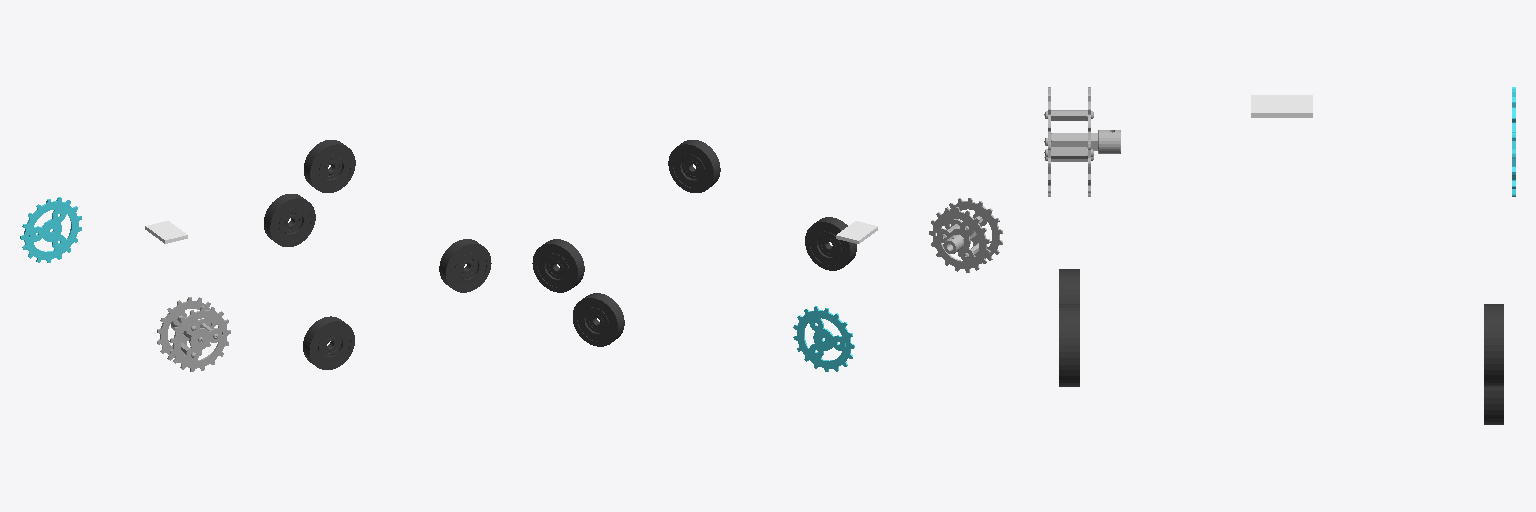
URDF robot description (robot_description):
<?xml version="1.0" encoding="utf-8"?>
<!-- This URDF was automatically created by SolidWorks to URDF Exporter! Originally created by [author] ([email redacted]) 
     Commit Version: 1.5.1-0-g916b5db  Build Version: 1.5.7152.31018
     For more information, please see http://wiki.ros.org/sw_urdf_exporter -->
<robot
  name="robot_description">
  <link
    name="base_link">
    <inertial>
      <origin
        xyz="-0.011199 0.0054792 0.071543"
        rpy="0 0 0" />
      <mass
        value="1.0921" />
      <inertia
        ixx="0.00086522"
        ixy="-1.2002E-08"
        ixz="7.953E-06"
        iyy="0.0023562"
        iyz="1.6632E-11"
        izz="0.0030012" />
    </inertial>
    <visual>
      <origin
        xyz="0 0 0"
        rpy="0 0 0" />
      <geometry>
        <mesh
          filename="package://robot_description/meshes/base_link.STL" />
      </geometry>
      <material
        name="">
        <color
          rgba="0.64706 0.61961 0.58824 1" />
      </material>
    </visual>
    <collision>
      <origin
        xyz="0 0 0"
        rpy="0 0 0" />
      <geometry>
        <mesh
          filename="package://robot_description/meshes/base_link.STL" />
      </geometry>
    </collision>
  </link>
  <link
    name="L_BCD">
    <inertial>
      <origin
        xyz="3.0497E-05 -2.6743E-05 -0.003944"
        rpy="0 0 0" />
      <mass
        value="0.036285" />
      <inertia
        ixx="3.951E-06"
        ixy="1.478E-10"
        ixz="3.6208E-10"
        iyy="3.9434E-06"
        iyz="5.3817E-09"
        izz="4.4119E-06" />
    </inertial>
    <visual>
      <origin
        xyz="0 0 0"
        rpy="0 0 0" />
      <geometry>
        <mesh
          filename="package://robot_description/meshes/L_BCD.STL" />
      </geometry>
      <material
        name="">
        <color
          rgba="0.37255 0.93725 1 1" />
      </material>
    </visual>
    <collision>
      <origin
        xyz="0 0 0"
        rpy="0 0 0" />
      <geometry>
        <mesh
          filename="package://robot_description/meshes/L_BCD.STL" />
      </geometry>
    </collision>
  </link>
  <joint
    name="L_BCD_joint"
    type="continuous">
    <origin
      xyz="-0.10835 0.103 0.05996"
      rpy="-1.5708 0 0" />
    <parent
      link="base_link" />
    <child
      link="L_BCD" />
    <axis
      xyz="0 0 1" />
    <dynamics
      friction="200" />
  </joint>
  <link
    name="L_Xich">
    <inertial>
      <origin
        xyz="5.24540697960374E-08 0.0503891865652719 -0.00155100776592164"
        rpy="0 0 0" />
      <mass
        value="0.0553950938320538" />
      <inertia
        ixx="6.978748522336E-07"
        ixy="3.37068834424915E-15"
        ixz="-2.2837070176044E-13"
        iyy="6.3742915770516E-06"
        iyz="9.06216785547197E-08"
        izz="6.15394848612016E-06" />
    </inertial>
    <visual>
      <origin
        xyz="0 0 0"
        rpy="0 0 0" />
      <geometry>
        <mesh
          filename="package://robot_description/meshes/L_Xich.STL" />
      </geometry>
      <material
        name="">
        <color
          rgba="0.501960784313725 0.501960784313725 0.501960784313725 1" />
      </material>
    </visual>
    <collision>
      <origin
        xyz="0 0 0"
        rpy="0 0 0" />
      <geometry>
        <mesh
          filename="package://robot_description/meshes/L_Xich.STL" />
      </geometry>
    </collision>
  </link>
  <joint
    name="L_Xich_joint"
    type="fixed">
    <origin
      xyz="0.11851 0.05996 0"
      rpy="0 -1.5708 0" />
    <parent
      link="L_BCD" />
    <child
      link="L_Xich" />
    <axis
      xyz="0 0 0" />
    <dynamics
      friction="200" />
  </joint>
  <link
    name="R_BCD">
    <inertial>
      <origin
        xyz="1.72115004188345E-05 -4.10150527950168E-06 0.00394401127120991"
        rpy="0 0 0" />
      <mass
        value="0.0362846245523719" />
      <inertia
        ixx="3.95098222248421E-06"
        ixy="-1.47804366419453E-10"
        ixz="3.62083935210136E-10"
        iyy="3.94344065087399E-06"
        iyz="-5.38166282432668E-09"
        izz="4.41185875569621E-06" />
    </inertial>
    <visual>
      <origin
        xyz="0 0 0"
        rpy="0 0 0" />
      <geometry>
        <mesh
          filename="package://robot_description/meshes/R_BCD.STL" />
      </geometry>
      <material
        name="">
        <color
          rgba="0.752941176470588 0.752941176470588 0.752941176470588 1" />
      </material>
    </visual>
    <collision>
      <origin
        xyz="0 0 0"
        rpy="0 0 0" />
      <geometry>
        <mesh
          filename="package://robot_description/meshes/R_BCD.STL" />
      </geometry>
    </collision>
  </link>
  <joint
    name="R_BCD_joint"
    type="continuous">
    <origin
      xyz="-0.10836 -0.103 0.059982"
      rpy="-1.5708 0 0" />
    <parent
      link="base_link" />
    <child
      link="R_BCD" />
    <axis
      xyz="0 0 1" />
    <dynamics
      friction="200" />
  </joint>
  <link
    name="R_xich">
    <inertial>
      <origin
        xyz="5.24539867235996E-08 0.0503891764167364 -0.00155133745898804"
        rpy="0 0 0" />
      <mass
        value="0.0553950938340012" />
      <inertia
        ixx="6.97874852184355E-07"
        ixy="3.37024306509049E-15"
        ixz="-2.2838905220797E-13"
        iyy="6.37429276300523E-06"
        iyz="9.06202368772424E-08"
        izz="6.1539473003987E-06" />
    </inertial>
    <visual>
      <origin
        xyz="0 0 0"
        rpy="0 0 0" />
      <geometry>
        <mesh
          filename="package://robot_description/meshes/R_xich.STL" />
      </geometry>
      <material
        name="">
        <color
          rgba="0.501960784313725 0.501960784313725 0.501960784313725 1" />
      </material>
    </visual>
    <collision>
      <origin
        xyz="0 0 0"
        rpy="0 0 0" />
      <geometry>
        <mesh
          filename="package://robot_description/meshes/R_xich.STL" />
      </geometry>
    </collision>
  </link>
  <joint
    name="R_xich_joint"
    type="fixed">
    <origin
      xyz="0.11853 0.059983 0"
      rpy="2.978E-05 -1.5708 0" />
    <parent
      link="R_BCD" />
    <child
      link="R_xich" />
    <axis
      xyz="0 0 0" />
    <dynamics
      friction="200" />
  </joint>
  <link
    name="L_BBD1">
    <inertial>
      <origin
        xyz="7.28277847750203E-07 2.32009663231336E-07 3.51072001136821E-07"
        rpy="0 0 0" />
      <mass
        value="0.0181510227398189" />
      <inertia
        ixx="1.46983823144334E-06"
        ixy="-2.33658940819144E-11"
        ixz="-3.69944187591671E-11"
        iyy="1.4699043173567E-06"
        iyz="-1.17754390020727E-11"
        izz="2.73993560788191E-06" />
    </inertial>
    <visual>
      <origin
        xyz="0 0 0"
        rpy="0 0 0" />
      <geometry>
        <mesh
          filename="package://robot_description/meshes/L_BBD1.STL" />
      </geometry>
      <material
        name="">
        <color
          rgba="0.298039215686275 0.298039215686275 0.298039215686275 1" />
      </material>
    </visual>
    <collision>
      <origin
        xyz="0 0 0"
        rpy="0 0 0" />
      <geometry>
        <mesh
          filename="package://robot_description/meshes/L_BBD1.STL" />
      </geometry>
    </collision>
  </link>
  <joint
    name="L_BBD1_joint"
    type="continuous">
    <origin
      xyz="-0.074331 0.103 0.025"
      rpy="-1.5708 0 0" />
    <parent
      link="base_link" />
    <child
      link="L_BBD1" />
    <axis
      xyz="0 0 1" />
    <dynamics
      friction="200" />
  </joint>
  <link
    name="L_BBD2">
    <inertial>
      <origin
        xyz="-7.5483E-07 1.2019E-07 3.5107E-07"
        rpy="0 0 0" />
      <mass
        value="0.018151" />
      <inertia
        ixx="1.4698E-06"
        ixy="1.2619E-11"
        ixz="3.8339E-11"
        iyy="1.4699E-06"
        iyz="-6.114E-12"
        izz="2.7399E-06" />
    </inertial>
    <visual>
      <origin
        xyz="0 0 0"
        rpy="0 0 0" />
      <geometry>
        <mesh
          filename="package://robot_description/meshes/L_BBD2.STL" />
      </geometry>
      <material
        name="">
        <color
          rgba="0.29804 0.29804 0.29804 1" />
      </material>
    </visual>
    <collision>
      <origin
        xyz="0 0 0"
        rpy="0 0 0" />
      <geometry>
        <mesh
          filename="package://robot_description/meshes/L_BBD2.STL" />
      </geometry>
    </collision>
  </link>
  <joint
    name="L_BBD2_joint"
    type="continuous">
    <origin
      xyz="-0.030331 0.103 0.077"
      rpy="-1.5708 0 0" />
    <parent
      link="base_link" />
    <child
      link="L_BBD2" />
    <axis
      xyz="0 0 1" />
    <dynamics
      friction="200" />
  </joint>
  <link
    name="L_BBD3">
    <inertial>
      <origin
        xyz="7.46785111856857E-07 1.62877574101661E-07 3.51072001178454E-07"
        rpy="0 0 0" />
      <mass
        value="0.0181510227398189" />
      <inertia
        ixx="1.4698344579235E-06"
        ixy="-1.68032451889943E-11"
        ixz="-3.79336006985746E-11"
        iyy="1.46990809087654E-06"
        iyz="-8.26377159530286E-12"
        izz="2.73993560788191E-06" />
    </inertial>
    <visual>
      <origin
        xyz="0 0 0"
        rpy="0 0 0" />
      <geometry>
        <mesh
          filename="package://robot_description/meshes/L_BBD3.STL" />
      </geometry>
      <material
        name="">
        <color
          rgba="0.298039215686275 0.298039215686275 0.298039215686275 1" />
      </material>
    </visual>
    <collision>
      <origin
        xyz="0 0 0"
        rpy="0 0 0" />
      <geometry>
        <mesh
          filename="package://robot_description/meshes/L_BBD3.STL" />
      </geometry>
    </collision>
  </link>
  <joint
    name="L_BBD3_joint"
    type="continuous">
    <origin
      xyz="0.010169 0.103 0.025"
      rpy="-1.5708 0 0" />
    <parent
      link="base_link" />
    <child
      link="L_BBD3" />
    <axis
      xyz="0 0 1" />
    <dynamics
      friction="200" />
  </joint>
  <link
    name="L_BBD4">
    <inertial>
      <origin
        xyz="6.5481E-07 3.9426E-07 3.5107E-07"
        rpy="0 0 0" />
      <mass
        value="0.018151" />
      <inertia
        ixx="1.4699E-06"
        ixy="-3.5742E-11"
        ixz="-3.3265E-11"
        iyy="1.4699E-06"
        iyz="-2.0018E-11"
        izz="2.7399E-06" />
    </inertial>
    <visual>
      <origin
        xyz="0 0 0"
        rpy="0 0 0" />
      <geometry>
        <mesh
          filename="package://robot_description/meshes/L_BBD4.STL" />
      </geometry>
      <material
        name="">
        <color
          rgba="0.29804 0.29804 0.29804 1" />
      </material>
    </visual>
    <collision>
      <origin
        xyz="0 0 0"
        rpy="0 0 0" />
      <geometry>
        <mesh
          filename="package://robot_description/meshes/L_BBD4.STL" />
      </geometry>
    </collision>
  </link>
  <joint
    name="L_BBD4_joint"
    type="continuous">
    <origin
      xyz="0.094669 0.103 0.025"
      rpy="-1.5708 0 0" />
    <parent
      link="base_link" />
    <child
      link="L_BBD4" />
    <axis
      xyz="0 0 1" />
    <dynamics
      friction="200" />
  </joint>
  <link
    name="L_BBD5">
    <inertial>
      <origin
        xyz="7.51477552352053E-07 1.39637373101908E-07 3.51072001150698E-07"
        rpy="0 0 0" />
      <mass
        value="0.0181510227398189" />
      <inertia
        ixx="1.46983348693769E-06"
        ixy="-1.44882601875665E-11"
        ixz="-3.81716552758321E-11"
        iyy="1.46990906186235E-06"
        iyz="-7.08327000162408E-12"
        izz="2.73993560788191E-06" />
    </inertial>
    <visual>
      <origin
        xyz="0 0 0"
        rpy="0 0 0" />
      <geometry>
        <mesh
          filename="package://robot_description/meshes/L_BBD5.STL" />
      </geometry>
      <material
        name="">
        <color
          rgba="0.298039215686275 0.298039215686275 0.298039215686275 1" />
      </material>
    </visual>
    <collision>
      <origin
        xyz="0 0 0"
        rpy="0 0 0" />
      <geometry>
        <mesh
          filename="package://robot_description/meshes/L_BBD5.STL" />
      </geometry>
    </collision>
  </link>
  <joint
    name="L_BBD5_joint"
    type="continuous">
    <origin
      xyz="0.12967 0.103 0.062"
      rpy="-1.5708 0 0" />
    <parent
      link="base_link" />
    <child
      link="L_BBD5" />
    <axis
      xyz="0 0 1" />
    <dynamics
      friction="200" />
  </joint>
  <link
    name="R_BBD1">
    <inertial>
      <origin
        xyz="-1.7175E-07 -7.4479E-07 -3.5107E-07"
        rpy="0 0 0" />
      <mass
        value="0.018151" />
      <inertia
        ixx="1.4699E-06"
        ixy="-1.7675E-11"
        ixz="-8.7146E-12"
        iyy="1.4698E-06"
        iyz="-3.7833E-11"
        izz="2.7399E-06" />
    </inertial>
    <visual>
      <origin
        xyz="0 0 0"
        rpy="0 0 0" />
      <geometry>
        <mesh
          filename="package://robot_description/meshes/R_BBD1.STL" />
      </geometry>
      <material
        name="">
        <color
          rgba="0.29804 0.29804 0.29804 1" />
      </material>
    </visual>
    <collision>
      <origin
        xyz="0 0 0"
        rpy="0 0 0" />
      <geometry>
        <mesh
          filename="package://robot_description/meshes/R_BBD1.STL" />
      </geometry>
    </collision>
  </link>
  <joint
    name="R_BBD1_joint"
    type="continuous">
    <origin
      xyz="-0.074331 -0.103 0.025"
      rpy="-1.5708 0 0" />
    <parent
      link="base_link" />
    <child
      link="R_BBD1" />
    <axis
      xyz="0 0 1" />
    <dynamics
      friction="200" />
  </joint>
  <link
    name="R_BBD2">
    <inertial>
      <origin
        xyz="-7.6209E-07 5.8592E-08 -3.5107E-07"
        rpy="0 0 0" />
      <mass
        value="0.018151" />
      <inertia
        ixx="1.4698E-06"
        ixy="6.1336E-12"
        ixz="-3.871E-11"
        iyy="1.4699E-06"
        iyz="2.9666E-12"
        izz="2.7399E-06" />
    </inertial>
    <visual>
      <origin
        xyz="0 0 0"
        rpy="0 0 0" />
      <geometry>
        <mesh
          filename="package://robot_description/meshes/R_BBD2.STL" />
      </geometry>
      <material
        name="">
        <color
          rgba="0.29804 0.29804 0.29804 1" />
      </material>
    </visual>
    <collision>
      <origin
        xyz="0 0 0"
        rpy="0 0 0" />
      <geometry>
        <mesh
          filename="package://robot_description/meshes/R_BBD2.STL" />
      </geometry>
    </collision>
  </link>
  <joint
    name="R_BBD2_joint"
    type="continuous">
    <origin
      xyz="-0.030331 -0.103 0.077"
      rpy="-1.5708 0 0" />
    <parent
      link="base_link" />
    <child
      link="R_BBD2" />
    <axis
      xyz="0 0 1" />
    <dynamics
      friction="200" />
  </joint>
  <link
    name="R_BBD3">
    <inertial>
      <origin
        xyz="-5.1491E-08 -7.626E-07 -3.5107E-07"
        rpy="0 0 0" />
      <mass
        value="0.018151" />
      <inertia
        ixx="1.4699E-06"
        ixy="-5.3874E-12"
        ixz="-2.6059E-12"
        iyy="1.4698E-06"
        iyz="-3.8736E-11"
        izz="2.7399E-06" />
    </inertial>
    <visual>
      <origin
        xyz="0 0 0"
        rpy="0 0 0" />
      <geometry>
        <mesh
          filename="package://robot_description/meshes/R_BBD3.STL" />
      </geometry>
      <material
        name="">
        <color
          rgba="0.29804 0.29804 0.29804 1" />
      </material>
    </visual>
    <collision>
      <origin
        xyz="0 0 0"
        rpy="0 0 0" />
      <geometry>
        <mesh
          filename="package://robot_description/meshes/R_BBD3.STL" />
      </geometry>
    </collision>
  </link>
  <joint
    name="R_BBD3_joint"
    type="continuous">
    <origin
      xyz="0.010169 -0.103 0.025"
      rpy="-1.5708 0 0" />
    <parent
      link="base_link" />
    <child
      link="R_BBD3" />
    <axis
      xyz="0 0 1" />
    <dynamics
      friction="200" />
  </joint>
  <link
    name="R_BBD4">
    <inertial>
      <origin
        xyz="4.60323504591909E-08 -7.62953556970869E-07 -3.51072001150698E-07"
        rpy="0 0 0" />
      <mass
        value="0.0181510227398189" />
      <inertia
        ixx="1.46991144415693E-06"
        ixy="4.91859962981242E-12"
        ixz="2.34762426134135E-12"
        iyy="1.46983110464311E-06"
        iyz="-3.87522469016621E-11"
        izz="2.73993560788191E-06" />
    </inertial>
    <visual>
      <origin
        xyz="0 0 0"
        rpy="0 0 0" />
      <geometry>
        <mesh
          filename="package://robot_description/meshes/R_BBD4.STL" />
      </geometry>
      <material
        name="">
        <color
          rgba="0.298039215686275 0.298039215686275 0.298039215686275 1" />
      </material>
    </visual>
    <collision>
      <origin
        xyz="0 0 0"
        rpy="0 0 0" />
      <geometry>
        <mesh
          filename="package://robot_description/meshes/R_BBD4.STL" />
      </geometry>
    </collision>
  </link>
  <joint
    name="R_BBD4_joint"
    type="continuous">
    <origin
      xyz="0.094669 -0.103 0.025"
      rpy="-1.5708 0 0" />
    <parent
      link="base_link" />
    <child
      link="R_BBD4" />
    <axis
      xyz="0 0 1" />
    <dynamics
      friction="200" />
  </joint>
  <link
    name="R_BBD5">
    <inertial>
      <origin
        xyz="1.16948539935491E-07 -7.553410795412E-07 -3.51072001178454E-07"
        rpy="0 0 0" />
      <mass
        value="0.018151022739819" />
      <inertia
        ixx="1.46990983317034E-06"
        ixy="1.22891506458614E-11"
        ixz="5.94958666631686E-12"
        iyy="1.4698327156297E-06"
        iyz="-3.83647025024892E-11"
        izz="2.73993560788191E-06" />
    </inertial>
    <visual>
      <origin
        xyz="0 0 0"
        rpy="0 0 0" />
      <geometry>
        <mesh
          filename="package://robot_description/meshes/R_BBD5.STL" />
      </geometry>
      <material
        name="">
        <color
          rgba="0.298039215686275 0.298039215686275 0.298039215686275 1" />
      </material>
    </visual>
    <collision>
      <origin
        xyz="0 0 0"
        rpy="0 0 0" />
      <geometry>
        <mesh
          filename="package://robot_description/meshes/R_BBD5.STL" />
      </geometry>
    </collision>
  </link>
  <joint
    name="R_BBD5_joint"
    type="continuous">
    <origin
      xyz="0.12967 -0.103 0.062"
      rpy="-1.5708 0 0" />
    <parent
      link="base_link" />
    <child
      link="R_BBD5" />
    <axis
      xyz="0 0 1" />
    <dynamics
      friction="200" />
  </joint>
  <link
    name="lidar">
    <inertial>
      <origin
        xyz="-0.0121280348399615 0.000479145184800553 -0.028963782492021"
        rpy="0 0 0" />
      <mass
        value="0.578354369449766" />
      <inertia
        ixx="0.000154004244923722"
        ixy="-8.18540421468897E-07"
        ixz="3.36626113039395E-06"
        iyy="0.000189728183581518"
        iyz="-7.5461683189633E-08"
        izz="0.000325480179697887" />
    </inertial>
    <visual>
      <origin
        xyz="0 0 0"
        rpy="0 0 0" />
      <geometry>
        <mesh
          filename="package://robot_description/meshes/lidar.STL" />
      </geometry>
      <material
        name="">
        <color
          rgba="1 1 1 1" />
      </material>
    </visual>
    <collision>
      <origin
        xyz="0 0 0"
        rpy="0 0 0" />
      <geometry>
        <mesh
          filename="package://robot_description/meshes/lidar.STL" />
      </geometry>
    </collision>
  </link>
  <joint
    name="lidar_joint"
    type="fixed">
    <origin
      xyz="0.00060691 0.00054999 0.2025"
      rpy="0 0 0" />
    <parent
      link="base_link" />
    <child
      link="lidar" />
    <axis
      xyz="0 0 0" />
  </joint>
  <link
    name="imu_sensor">
    <inertial>
      <origin
        xyz="0 0 0"
        rpy="0 0 0" />
      <mass
        value="0" />
      <inertia
        ixx="0"
        ixy="0"
        ixz="0"
        iyy="0"
        iyz="0"
        izz="0" />
    </inertial>
    <visual>
      <origin
        xyz="0 0 0"
        rpy="0 0 0" />
      <geometry>
        <mesh
          filename="package://robot_description/meshes/imu_sensor.STL" />
      </geometry>
      <material
        name="">
        <color
          rgba="1 1 1 1" />
      </material>
    </visual>
    <collision>
      <origin
        xyz="0 0 0"
        rpy="0 0 0" />
      <geometry>
        <mesh
          filename="package://robot_description/meshes/imu_sensor.STL" />
      </geometry>
    </collision>
  </link>
  <joint
    name="imu_sensor_joint"
    type="fixed">
    <origin
      xyz="-0.072331 0.00025 0.094"
      rpy="0 0 0" />
    <parent
      link="base_link" />
    <child
      link="imu_sensor" />
    <axis
      xyz="0 0 0" />
  </joint>
</robot>

--- What the picture shows (computed from the rendered views, not written in the file) ---
The picture shows the robot from 3 angles, left to right: view 1: azimuth 30°, elevation 25°; view 2: azimuth 150°, elevation 25°; view 3: azimuth 270°, elevation 25°; orthographic projection.
Robot: robot_description — 17 links, 16 joints (12 continuous, 4 fixed); root link base_link; default pose: every joint at zero.
Links seen in each view (by area): view 1: R_BCD, L_BCD, R_BBD5, R_BBD3, L_BBD4, L_BBD5, imu_sensor; view 2: R_BCD, L_BCD, R_BBD5, L_BBD4, L_BBD5, R_BBD3, imu_sensor; view 3: R_BCD, R_BBD5, L_BBD5, imu_sensor, L_BBD4, R_BBD3.
Boxes of the visible links, <box> form: R_BCD: <box>157,297,230,371</box>; L_BCD: <box>20,197,81,262</box>; R_BBD5: <box>439,239,491,292</box>; R_BBD3: <box>303,316,354,369</box>; L_BBD4: <box>264,194,315,246</box>; L_BBD5: <box>304,140,355,192</box>; imu_sensor: <box>145,221,187,243</box>; R_BCD: <box>929,198,1002,272</box>; L_BCD: <box>793,306,854,371</box>; R_BBD5: <box>668,140,720,192</box>; L_BBD4: <box>573,293,624,346</box>; L_BBD5: <box>532,239,584,292</box>; R_BBD3: <box>805,217,856,270</box>; imu_sensor: <box>836,221,877,243</box>; R_BCD: <box>1044,87,1120,196</box>; R_BBD5: <box>1059,304,1079,386</box>; L_BBD5: <box>1484,304,1503,386</box>; imu_sensor: <box>1251,95,1312,117</box>; L_BBD4: <box>1484,387,1503,424</box>; R_BBD3: <box>1059,269,1079,303</box>.
Bounding box of the posed robot: 0.2847 × 0.2286 × 0.092 m (x, y, z).
7 mesh visuals loaded from 17 distinct referenced files (7 binary STL); not drawn: 10 (reference not matched to a file when rendering).